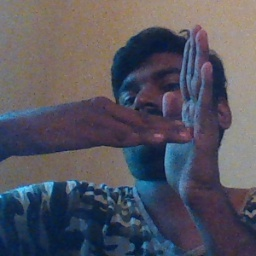Z: (111, 23, 223, 201)
